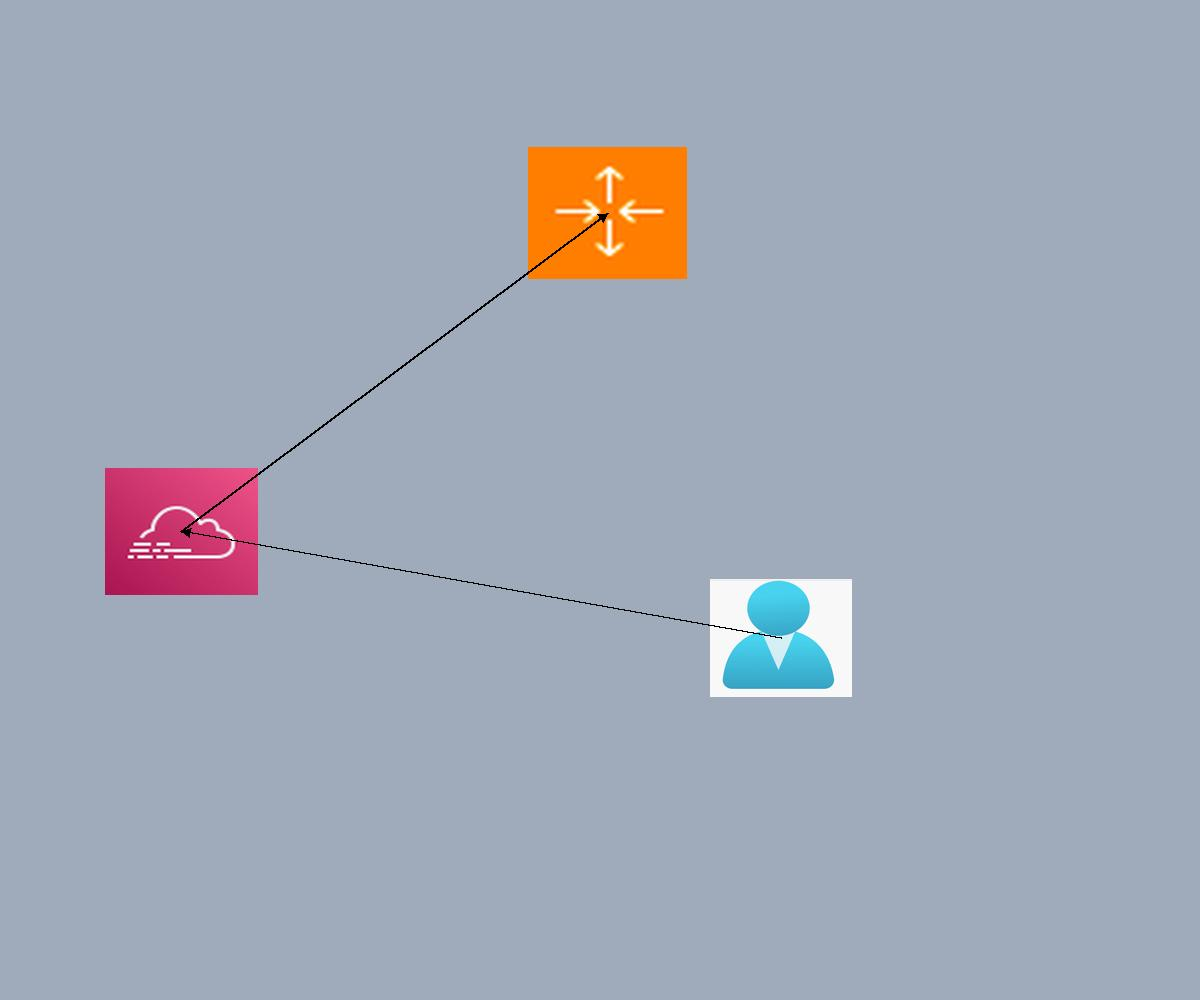AWS-CloudTrail: (105, 468, 258, 595)
AWS-Scaling-group: (528, 147, 687, 279)
Azure_users: (710, 579, 852, 697)
